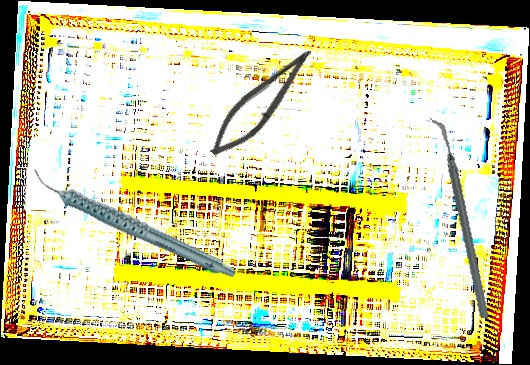Chopper: (394, 117, 525, 319)
Handpiece: (28, 129, 240, 317)
Micro Scissor: (201, 35, 320, 168)
